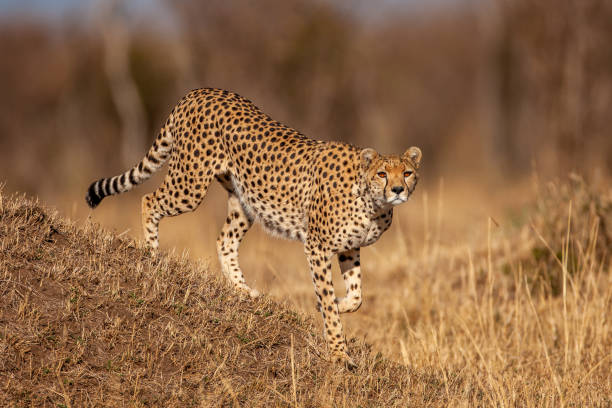cheetah: (359, 140, 431, 222)
